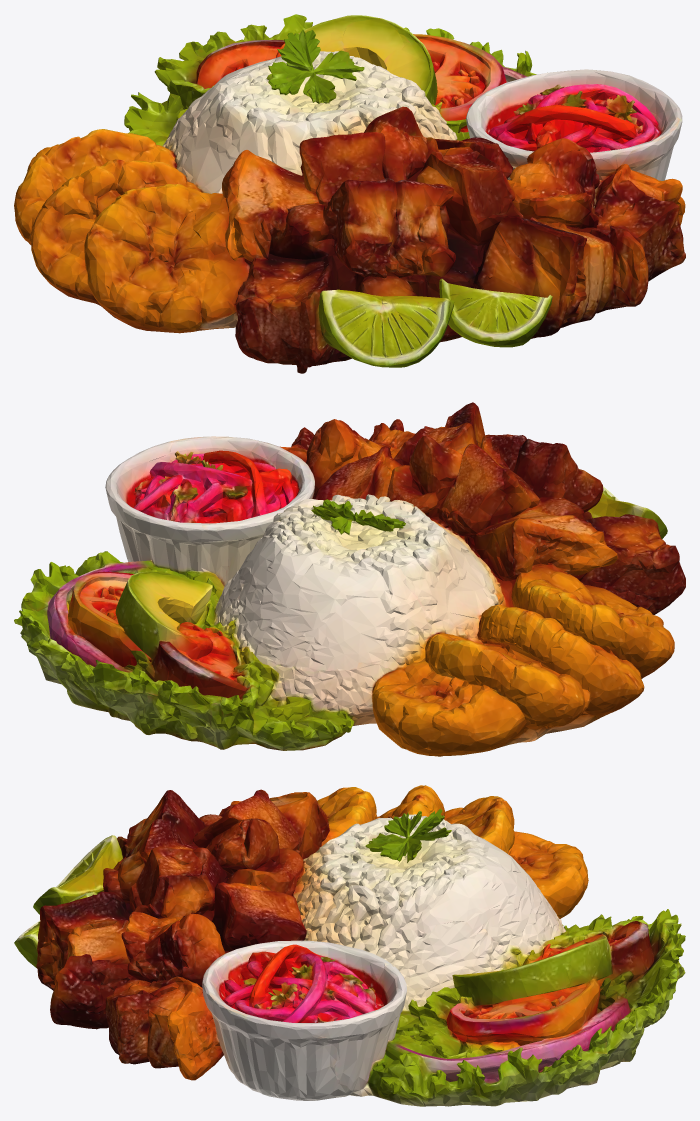
Rendered from chicharron.glb.
The picture shows the model from 3 angles, top to bottom: view 1: azimuth 30°, elevation 25°; view 2: azimuth 150°, elevation 25°; view 3: azimuth 270°, elevation 25°; orthographic projection. The views are drawn at different scales.
Parts seen in each view (by area): view 1: geometry_0; view 2: geometry_0; view 3: geometry_0.
Part boxes in pixels (box(x1,y1,x2,y2)): geometry_0: box(14, 14, 685, 373); geometry_0: box(14, 402, 685, 756); geometry_0: box(14, 785, 685, 1106).
Size of the model in its own units: 0.227 by 0.067 by 0.24.
1 material, 1 textured.
